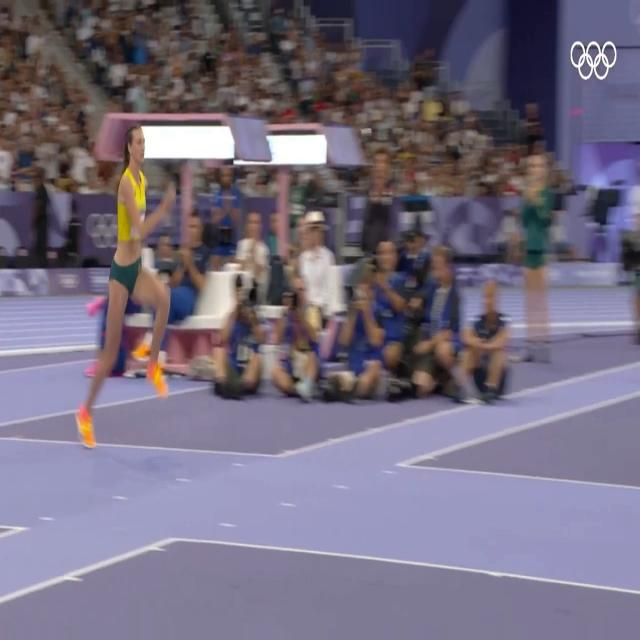run: (79, 127, 173, 447)
